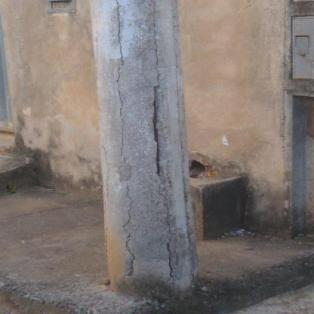Poste: (83, 0, 210, 300)
